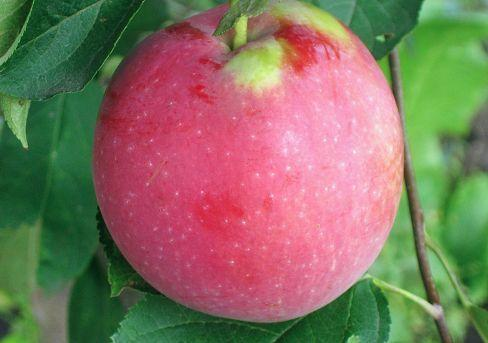Apple: (94, 4, 404, 320)
